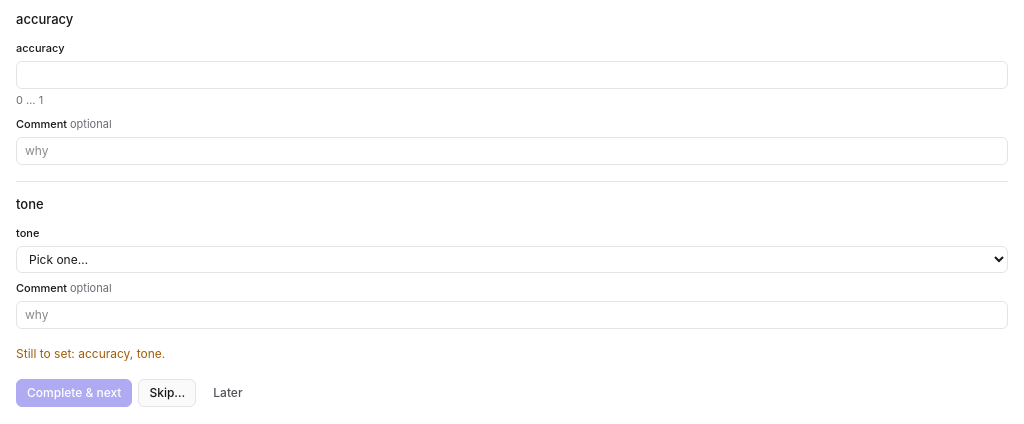
Scenario: the completeness rule, client-side › refuses Complete until every score the queue asks for is set
Check: the button "Complete & next" is disabled, box [16,379,132,407]
Check: the text "Still to set: accuracy, tone." is shown, box [16,346,165,361]
Type "0.9" into the number field labelled "accuracy". click: x=512, y=75
box: [16,61,1008,89]
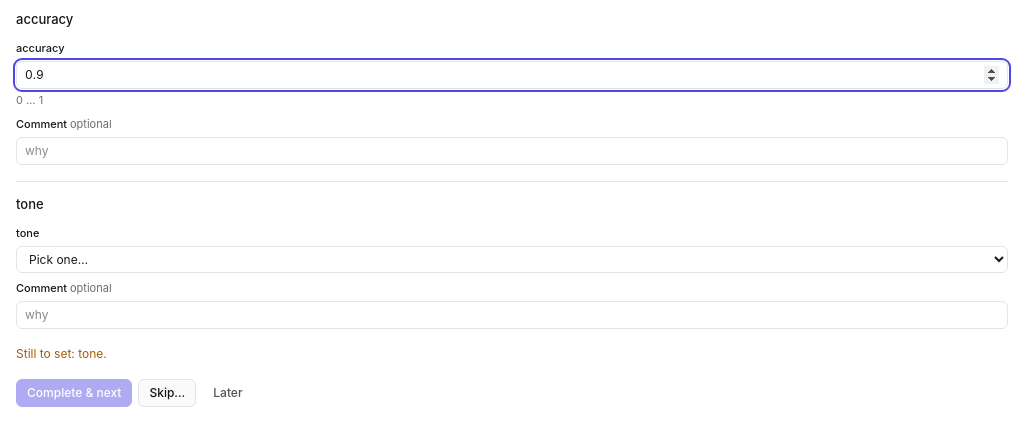
Check: the button "Complete & next" is disabled, box [16,379,132,407]
Check: the text "Still to set: tone." is shown, box [16,346,107,361]
Select "warm" in the dropdown labelled "tone". click: x=512, y=260
box: [16,246,1008,273]
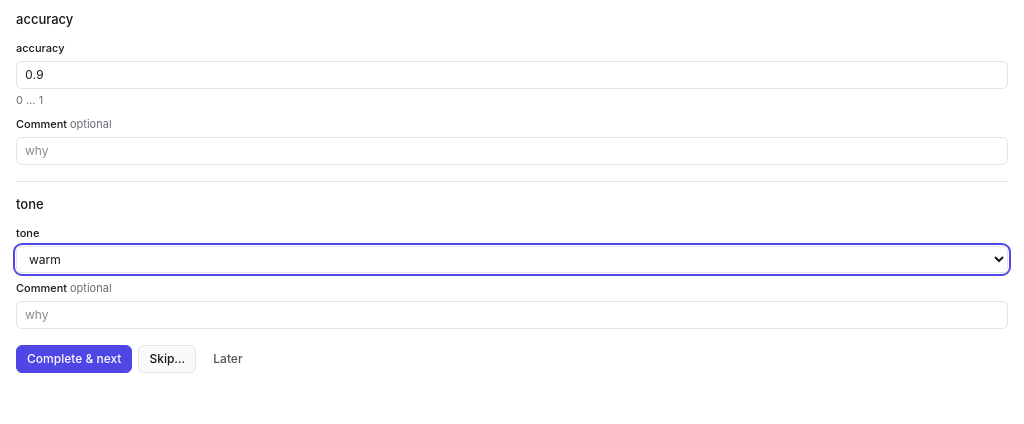
Check: the button "Complete & next" is enabled, box [16,345,132,373]
